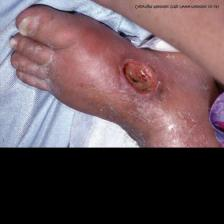Wound: (114, 50, 169, 102)
